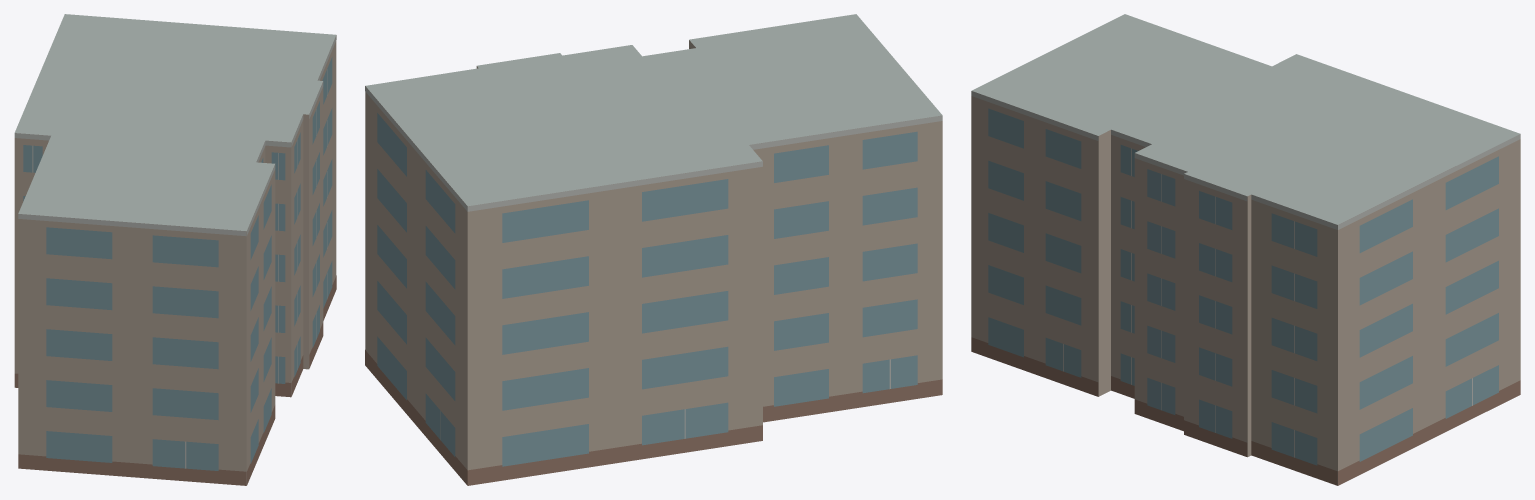
The model's file is survey-upis-33041447.glb.
The picture shows the model from 3 angles, left to right: view 1: azimuth 30°, elevation 25°; view 2: azimuth 150°, elevation 25°; view 3: azimuth 270°, elevation 25°; orthographic projection. The views are drawn at different scales.
Visible parts, largest first — view 1: survey-upis-33041447.tmp; view 2: survey-upis-33041447.tmp; view 3: survey-upis-33041447.tmp.
Part boxes in pixels (left/top/right/bottom): survey-upis-33041447.tmp: left=14, top=14, right=336, bottom=485; survey-upis-33041447.tmp: left=365, top=14, right=942, bottom=485; survey-upis-33041447.tmp: left=971, top=14, right=1520, bottom=485.
Size of the model in its own units: 21.52 by 12.4 by 23.66.
